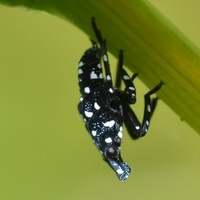insect: (78, 17, 162, 180)
